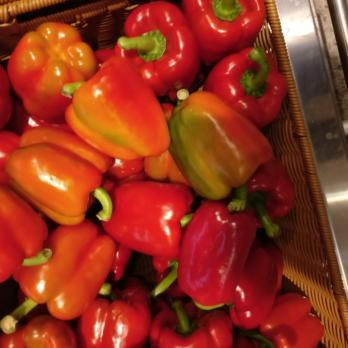Capsicum: (0, 160, 289, 348), (0, 20, 279, 176)
